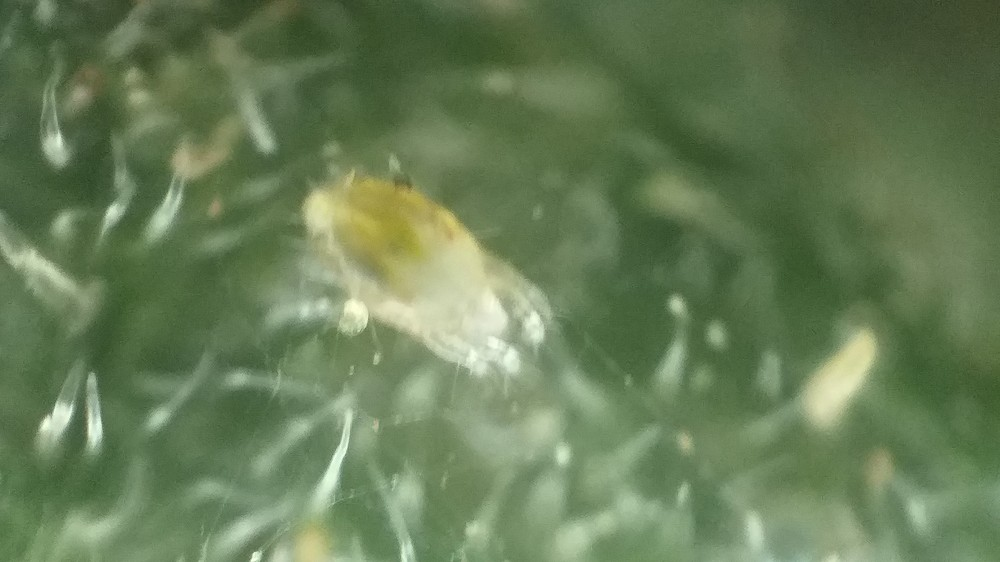Aracnido Rojo: (256, 146, 586, 415)
